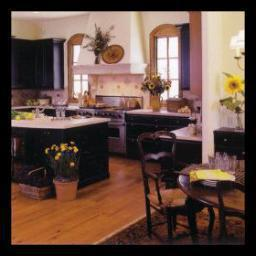Matera: (46, 143, 88, 204)
